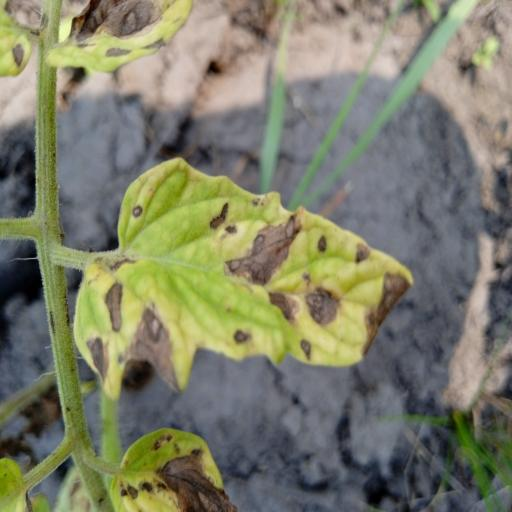Tomato_Brown_Spots: (68, 158, 417, 410)
